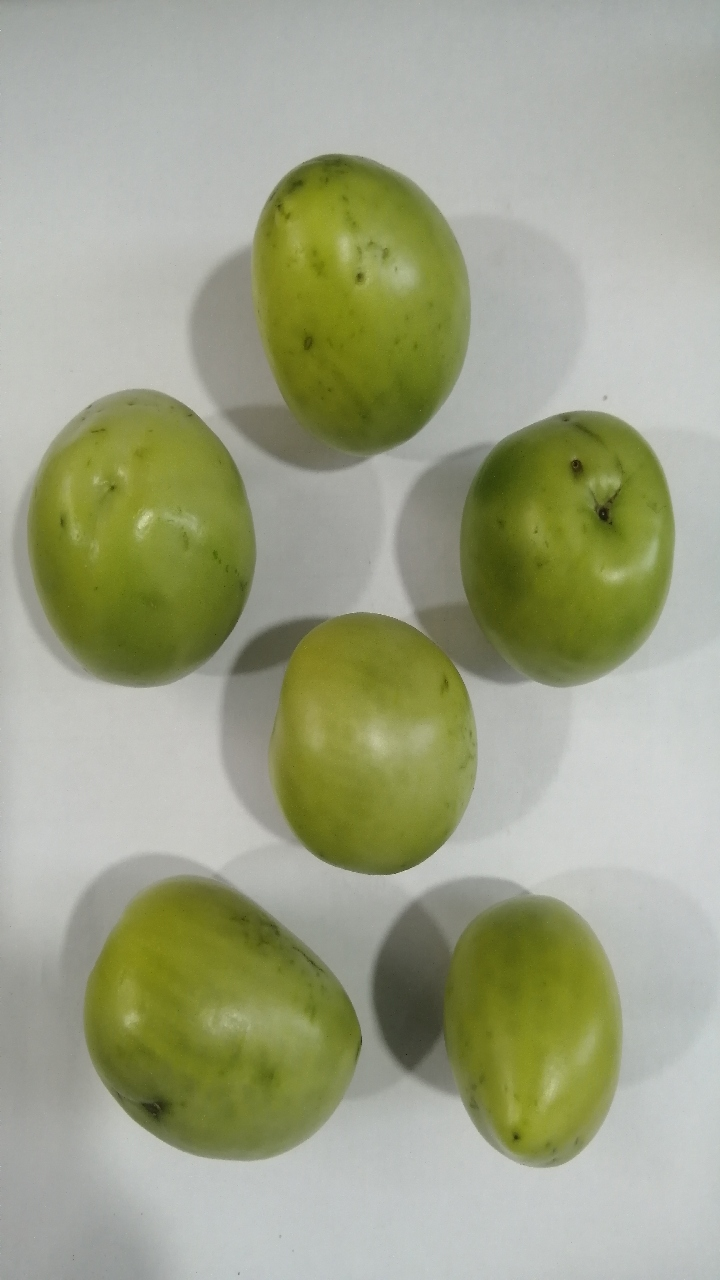tomateVerde: (54, 843, 374, 1191), (6, 363, 269, 715), (224, 125, 494, 465), (426, 388, 689, 702), (258, 599, 500, 885), (418, 875, 628, 1195)
